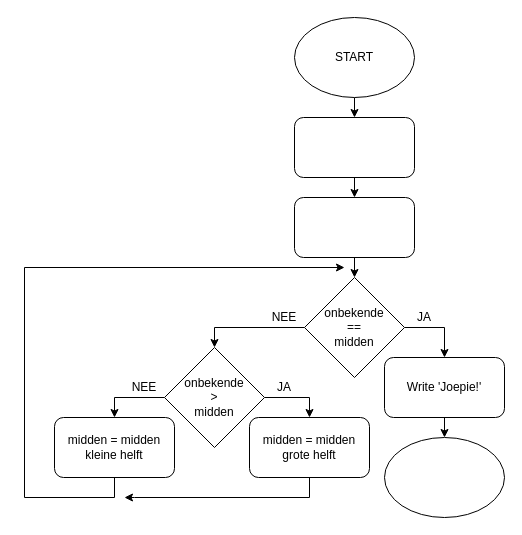
This 522x535 diagram has some shape labels left out. Here are the shapes that lost their labels. From the top down, the centre of each, then its label:
[354,147]: Getallen inlezen & declareren
[354,227]: onbekende = een random getal midden = middelste getal
[444,477]: STOP
